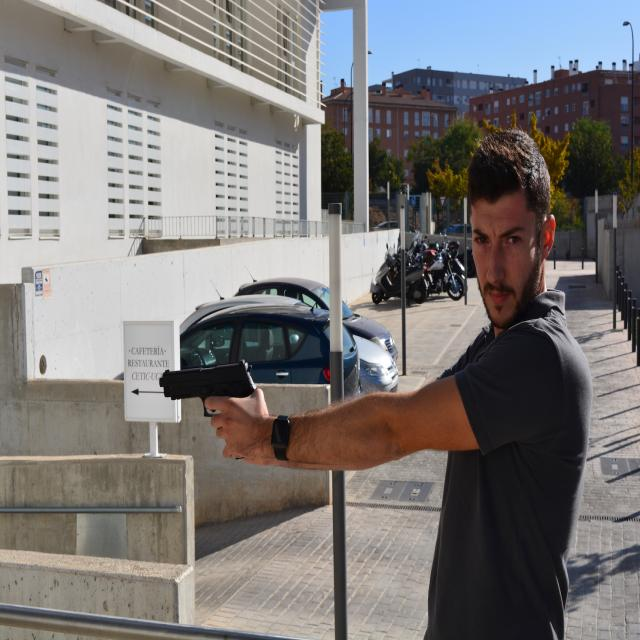pistol: (159, 359, 258, 419)
